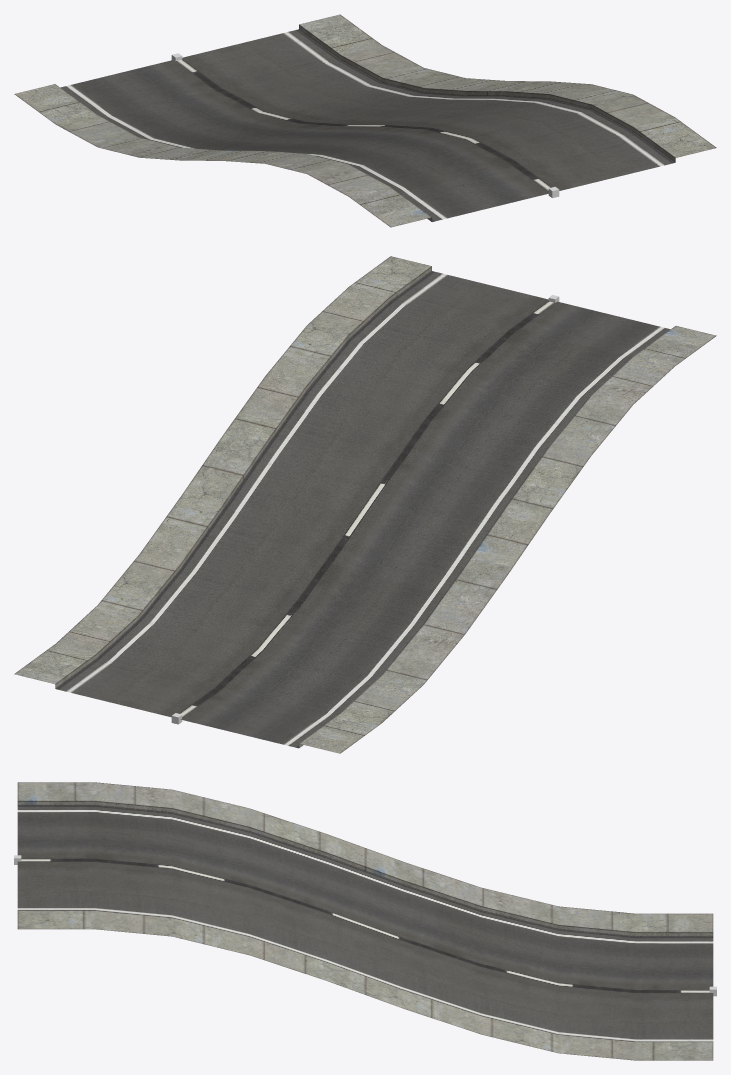
The model's file is roadSlope.down2.fbx.
3 views of the same model, one above another, from view 1: azimuth 30°, elevation 25°; view 2: azimuth 150°, elevation 25°; view 3: azimuth 270°, elevation 25° (orthographic). The views are drawn at different scales.
Parts seen in each view (by area): view 1: MESH roadSlope.down2; view 2: MESH roadSlope.down2; view 3: MESH roadSlope.down2.
Boxes of the visible parts, x1,y1,x2,y2 form: MESH roadSlope.down2: (14, 14, 716, 227); MESH roadSlope.down2: (14, 256, 716, 753); MESH roadSlope.down2: (17, 782, 713, 1060).
Size of what is drawn, in the model's own units: 2400 by 1058 by 4850.
